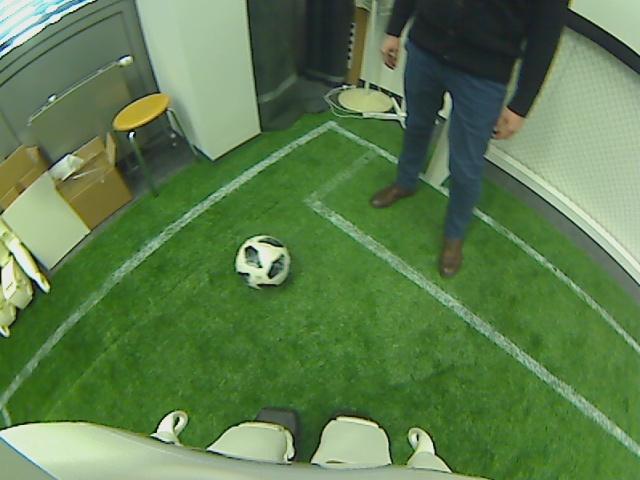ball: (234, 232, 292, 288)
